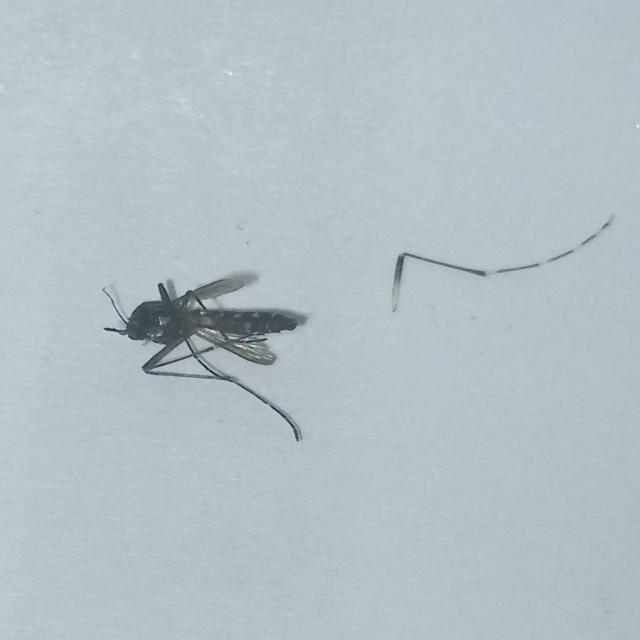albopictus: (90, 259, 312, 447)
